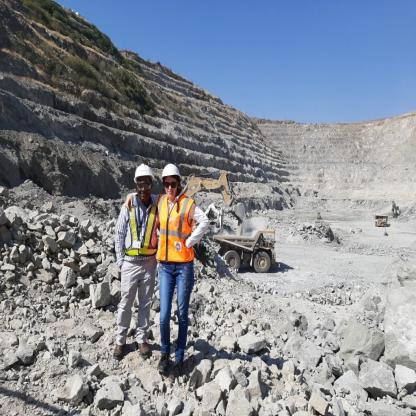dump_truck: (212, 225, 282, 275), (374, 209, 390, 230)
person: (112, 146, 162, 364), (156, 165, 205, 374)
